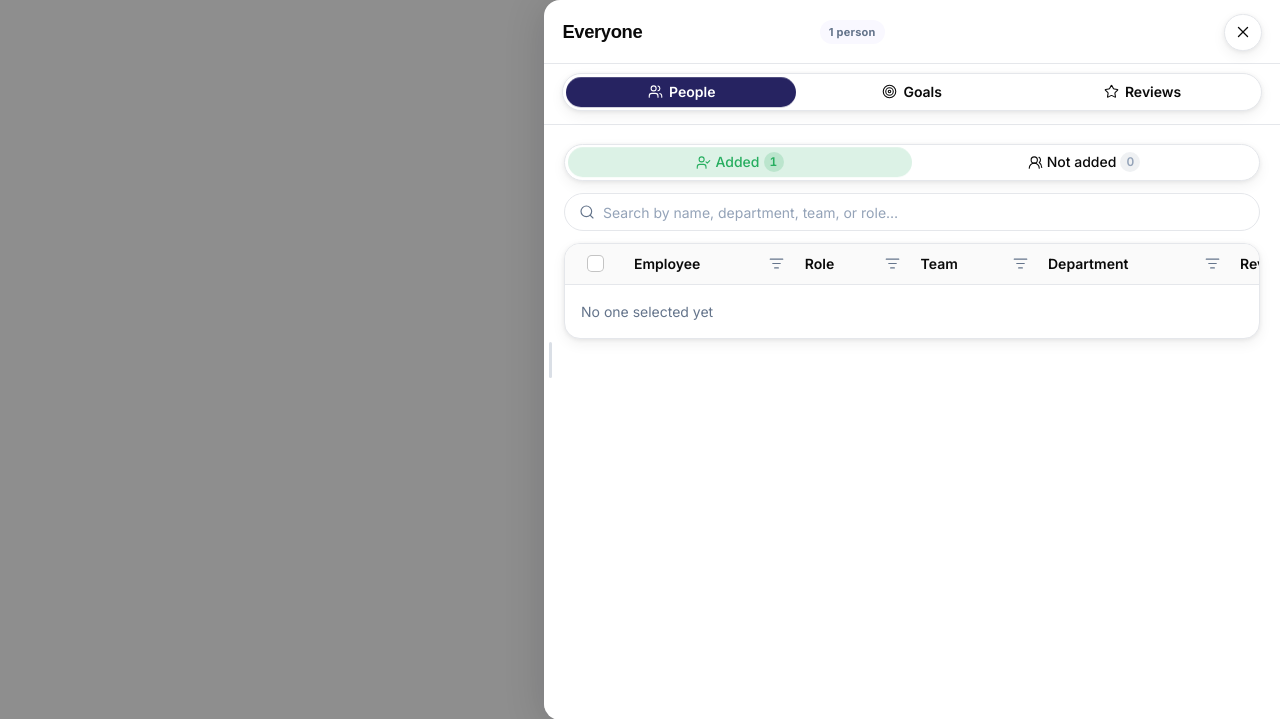
Scenario: GroupSettingsView › unlocks review settings from the Reviews page
The width and height of the screenshot is (1280, 719).
Click the button "Reviews" at [1142, 92], box [1027,77,1258,107]
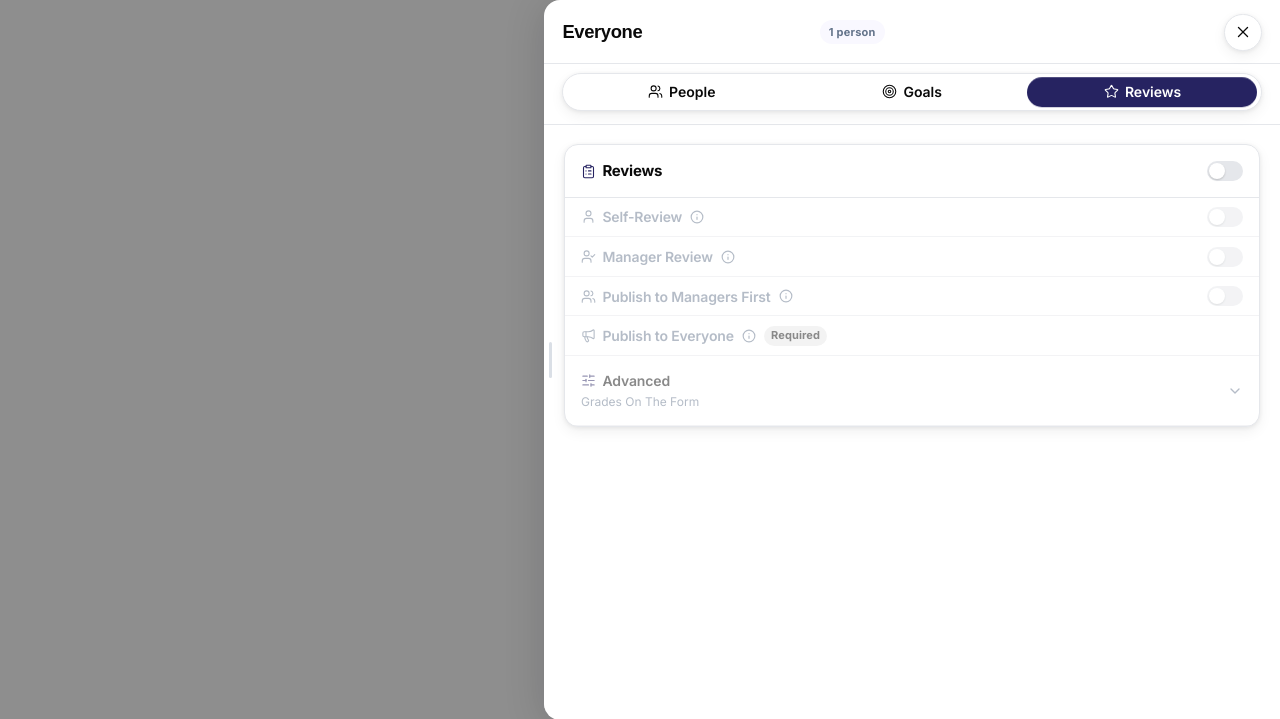
Expected: the switch named "Enable Manager Review" is disabled, [1207,246,1243,266]
Expected: the field labelled "Opens" is not shown
Click the switch named "Enable Reviews" at [1225, 171], box [1207,161,1243,181]
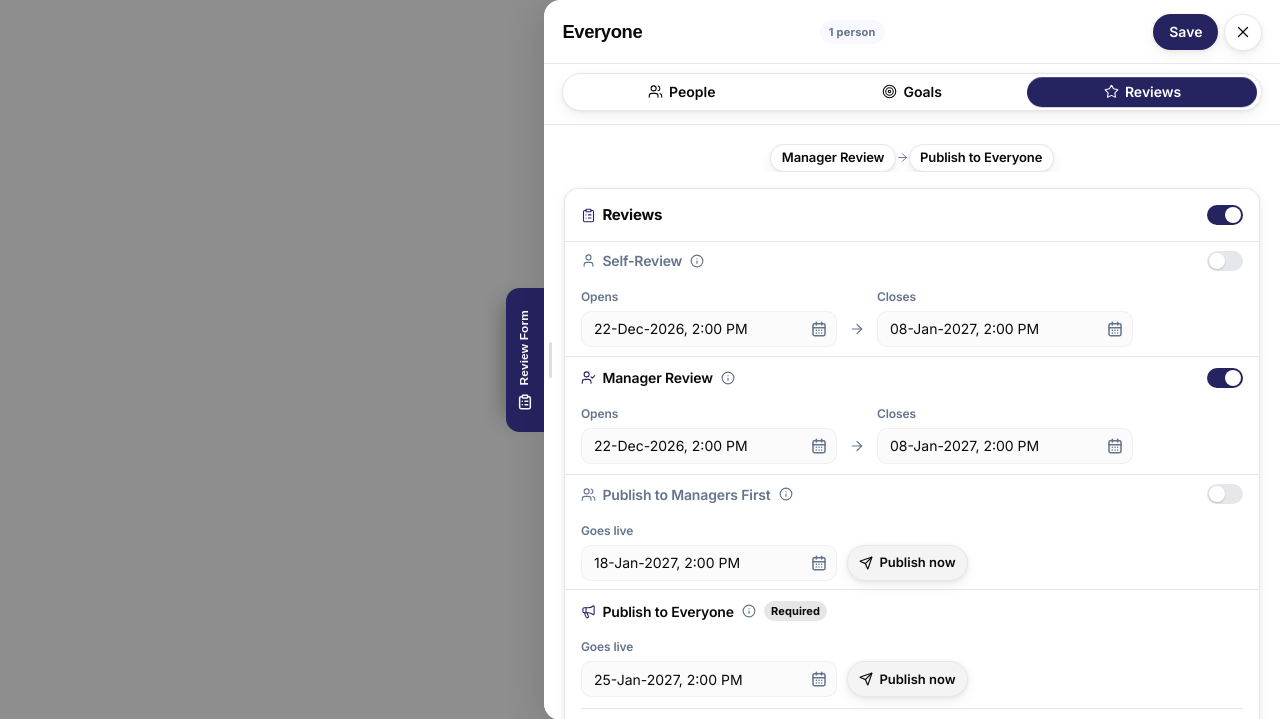
Expected: the switch named "Enable Manager Review" is enabled, [1207,368,1243,388]
Expected: the switch named "Enable Reviews" is checked, [1207,205,1243,225]
Expected: the text "Goes live" below "Publish to Managers First" is shown, [581,522,633,538]
